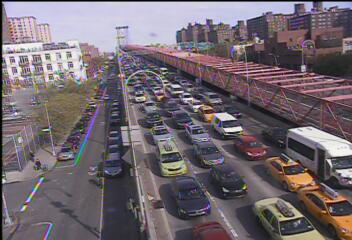neg: (156, 73, 185, 113), (222, 86, 251, 126), (74, 153, 102, 190), (293, 88, 315, 116), (64, 115, 85, 143), (91, 96, 105, 115), (113, 76, 126, 94)
pos: (23, 148, 35, 164), (32, 157, 43, 172)
